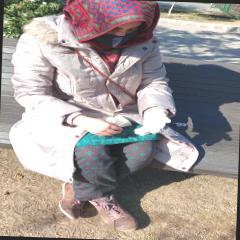gloved: (130, 109, 172, 136)
not-gloved: (72, 114, 124, 138)
